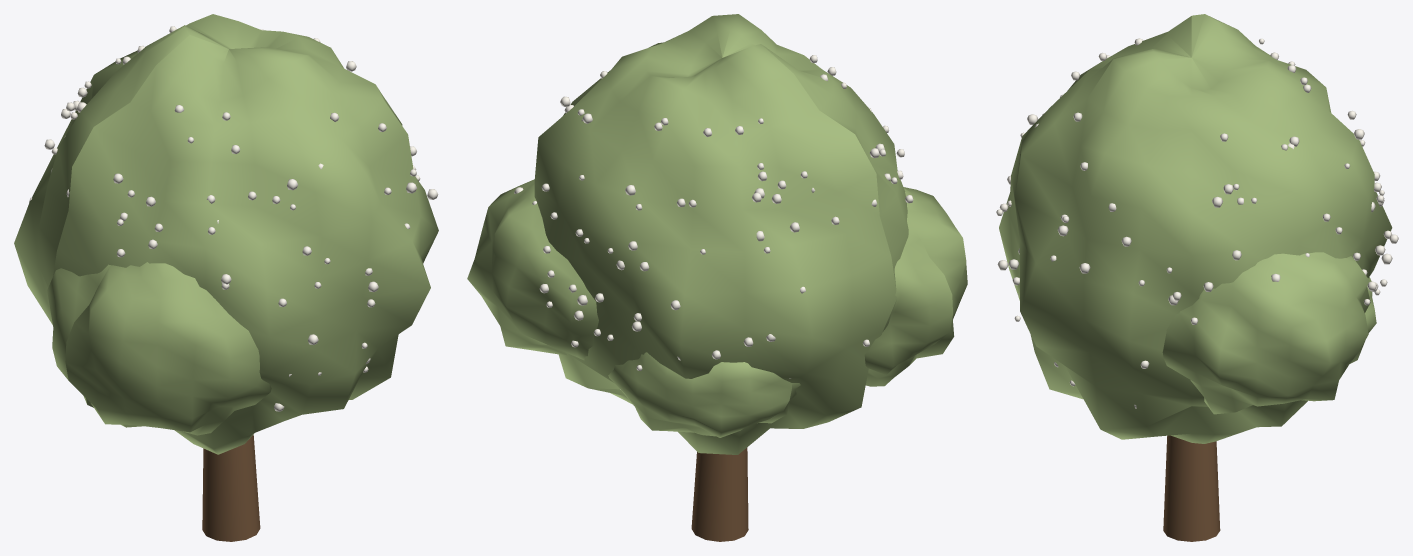
File: szilva-tavasz.glb
3 views of the same model, side by side, from view 1: azimuth 30°, elevation 25°; view 2: azimuth 150°, elevation 25°; view 3: azimuth 270°, elevation 25° (orthographic).
Parts seen in each view (by area): view 1: korona-1, korona-2, torzs, virag; view 2: korona-1, korona-3, korona-2, korona-5, torzs, virag; view 3: korona-1, korona-3, torzs, virag.
Part boxes in pixels (x1=…): korona-1: x1=14, y1=14, x2=438, y2=454; korona-2: x1=47, y1=262, x2=271, y2=435; torzs: x1=202, y1=435, x2=260, y2=541; virag: x1=29, y1=26, x2=438, y2=411; korona-1: x1=534, y1=14, x2=908, y2=454; korona-3: x1=467, y1=179, x2=598, y2=360; korona-2: x1=864, y1=187, x2=967, y2=386; korona-5: x1=608, y1=352, x2=800, y2=437; torzs: x1=691, y1=447, x2=748, y2=541; virag: x1=514, y1=55, x2=913, y2=389; korona-1: x1=999, y1=14, x2=1392, y2=443; korona-3: x1=1162, y1=252, x2=1370, y2=414; torzs: x1=1163, y1=435, x2=1220, y2=541; virag: x1=996, y1=38, x2=1398, y2=408.
Bounding box in the file's own units: 5.26 × 6.28 × 4.6.
